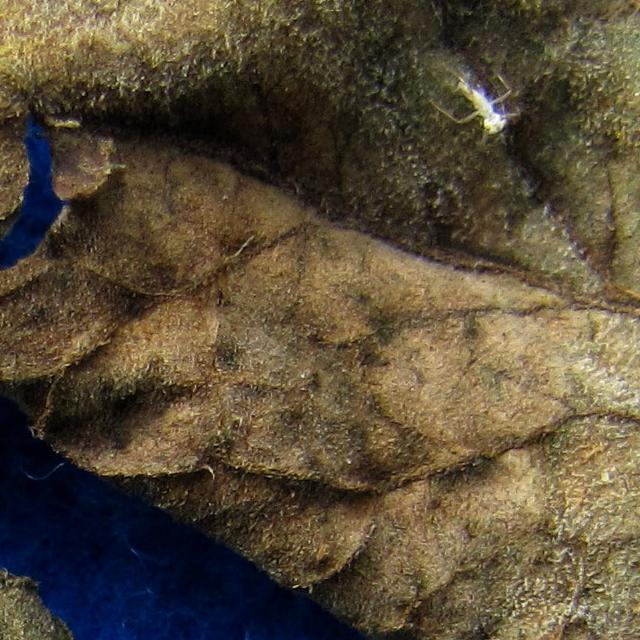Tomato leaf late blight: (0, 0, 640, 640), (0, 431, 640, 640)
